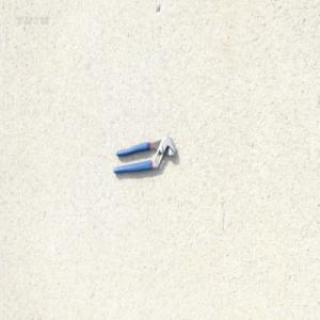Pliertrack_idkeyframe: (111, 133, 176, 173)
